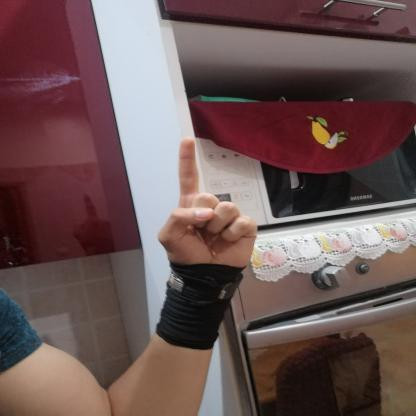BAA: (149, 129, 266, 283)
